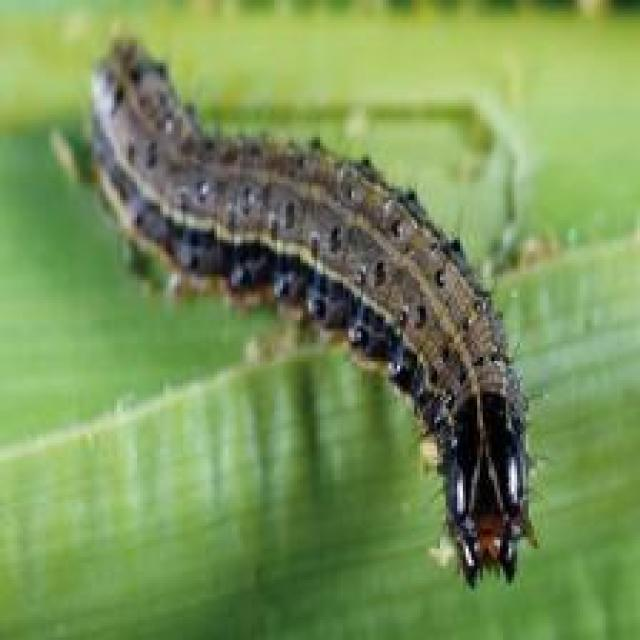Plaga: (81, 34, 552, 588)
